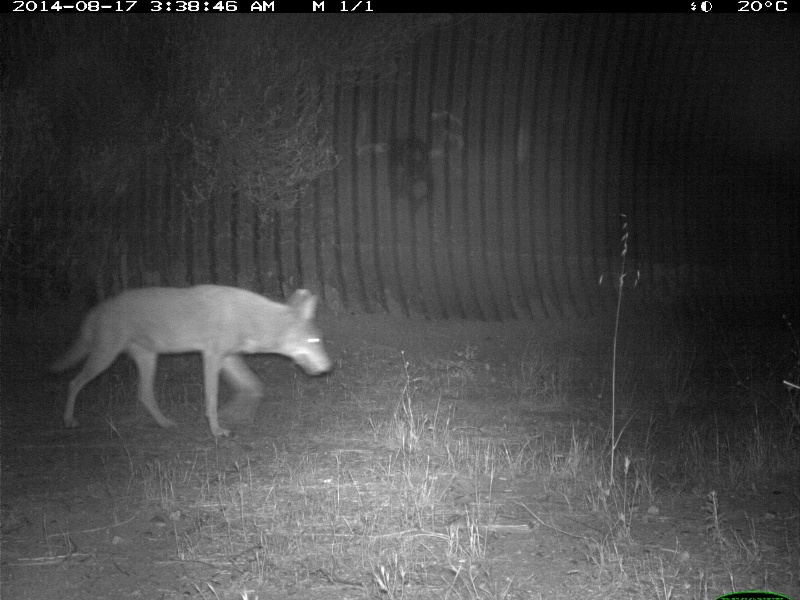coyote: (50, 280, 336, 441)
